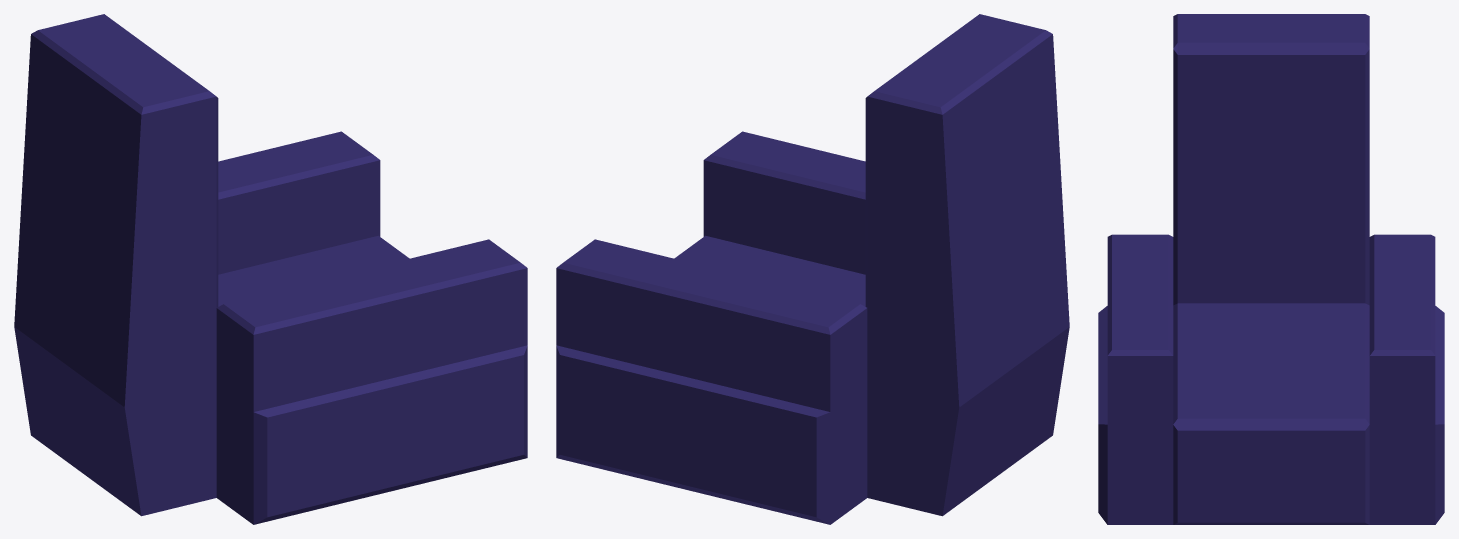
The model's file is sillon.fbx.
The picture shows the model from 3 angles, left to right: view 1: azimuth 30°, elevation 25°; view 2: azimuth 150°, elevation 25°; view 3: azimuth 270°, elevation 25°; orthographic projection. The views are drawn at different scales.
Visible parts, largest first — view 1: Cube; view 2: Cube; view 3: Cube.
Part boxes in pixels (<box>): Cube: <box>14,14,527,524</box>; Cube: <box>556,14,1069,524</box>; Cube: <box>1098,14,1444,524</box>.
Bounding box in the file's own units: 4206 × 4404 × 3824.
